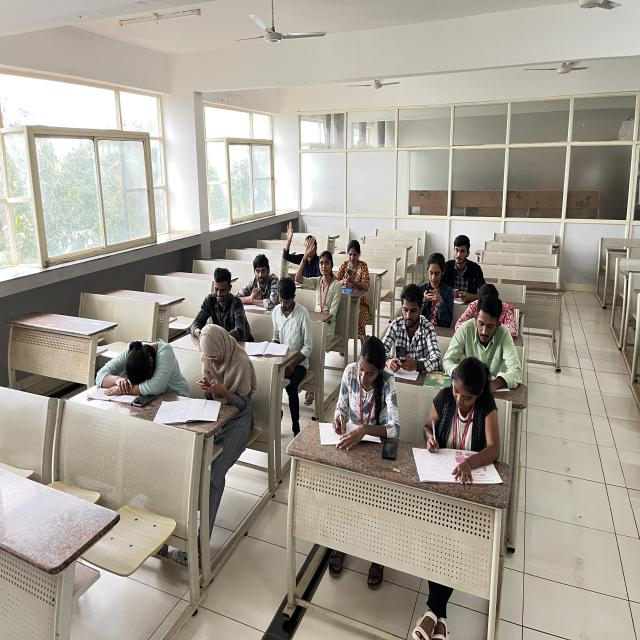Hand Rising: (293, 236, 341, 302), (282, 216, 323, 276)
Reading: (260, 274, 310, 355)
Sleeping: (91, 325, 179, 392)
Using Phone: (190, 322, 262, 395), (379, 285, 434, 375), (188, 270, 245, 339), (419, 254, 454, 329), (336, 233, 376, 288)
Writing: (423, 362, 484, 475), (328, 340, 392, 442)
